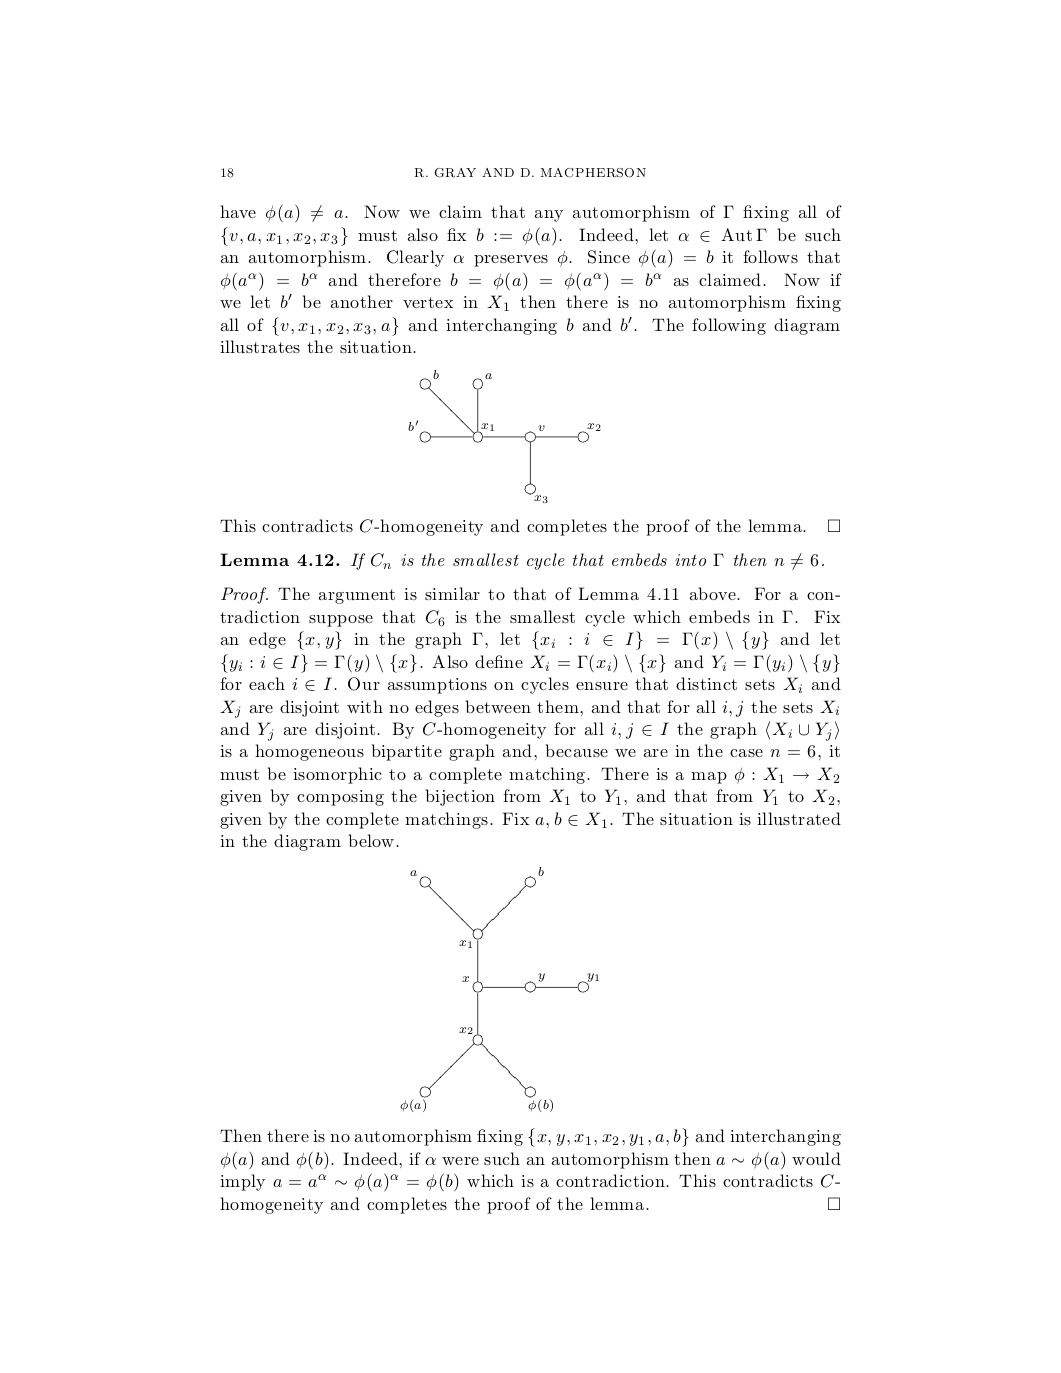figure: (400, 865, 598, 1113), (408, 369, 600, 504)
